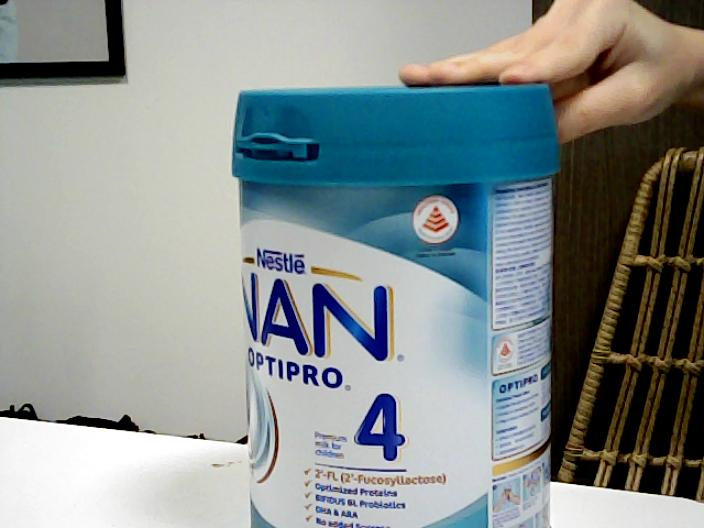Babymilk-powder_800-899g_Halal_Healthy: (229, 79, 562, 528)
